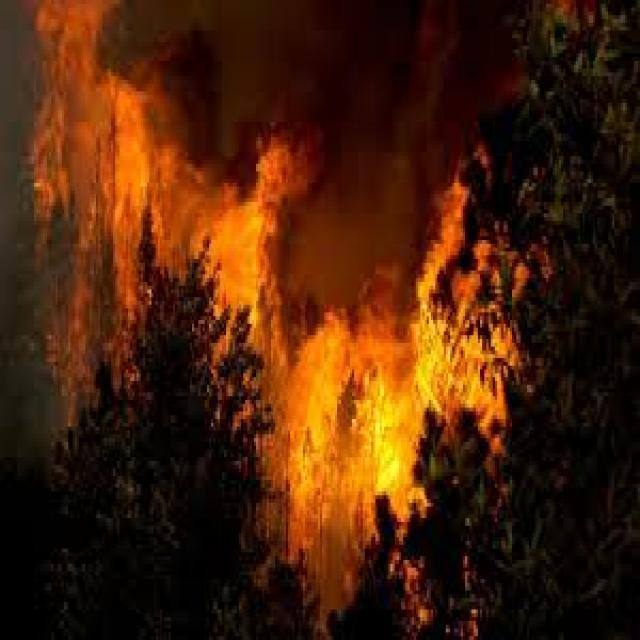Fire: (23, 0, 527, 558)
Smoke: (113, 0, 546, 306)
